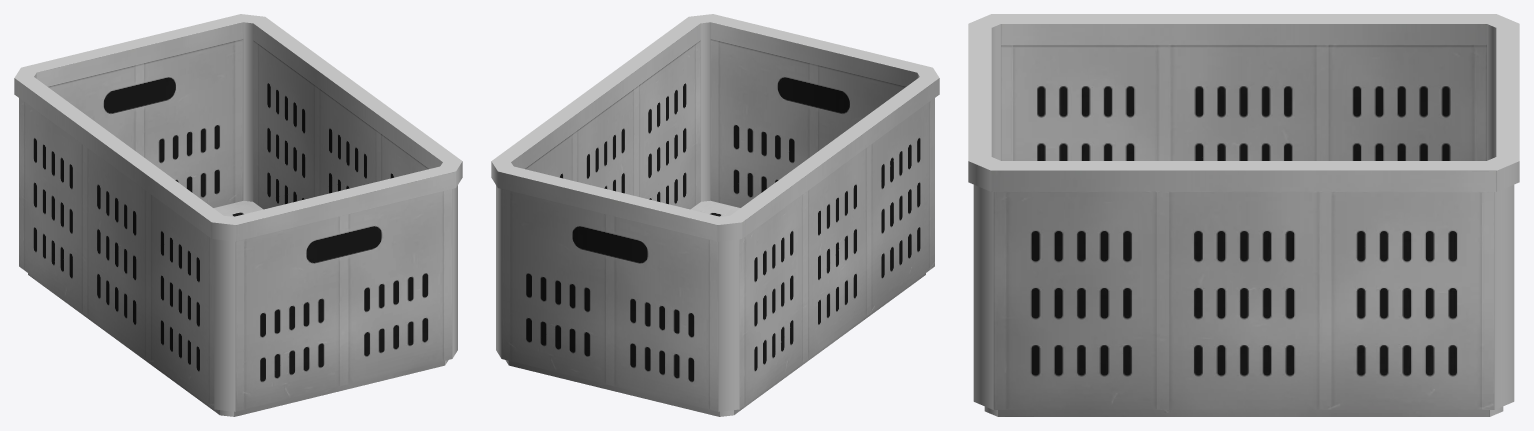
File: crate.glb
3 views of the same model, side by side, from view 1: azimuth 30°, elevation 25°; view 2: azimuth 150°, elevation 25°; view 3: azimuth 270°, elevation 25° (orthographic). The views are drawn at different scales.
Visible parts, largest first — view 1: crate; view 2: crate; view 3: crate.
Part boxes in pixels (<box>): crate: <box>14,14,462,416</box>; crate: <box>491,14,939,416</box>; crate: <box>968,14,1519,416</box>.
Bounding box in the file's own units: 0.412 × 0.31 × 0.612.
1 material, 1 textured.
